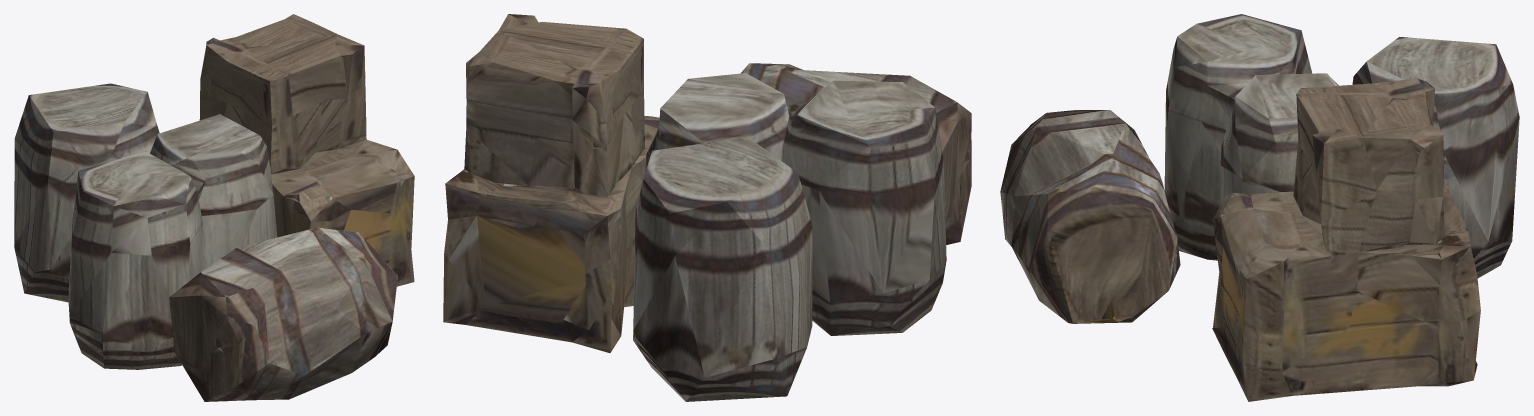
File: barrels_b_lod.glb
3 views of the same model, side by side, from view 1: azimuth 30°, elevation 25°; view 2: azimuth 150°, elevation 25°; view 3: azimuth 270°, elevation 25° (orthographic). The views are drawn at different scales.
Visible parts, largest first — view 1: mesh_node; view 2: mesh_node; view 3: mesh_node.
Part boxes in pixels (x1=…): mesh_node: x1=14, y1=14, x2=414, y2=401; mesh_node: x1=443, y1=14, x2=971, y2=401; mesh_node: x1=1000, y1=14, x2=1519, y2=401.
Bounding box in the file's own units: 1.68 × 1.04 × 1.9.
1 material, 1 textured.
